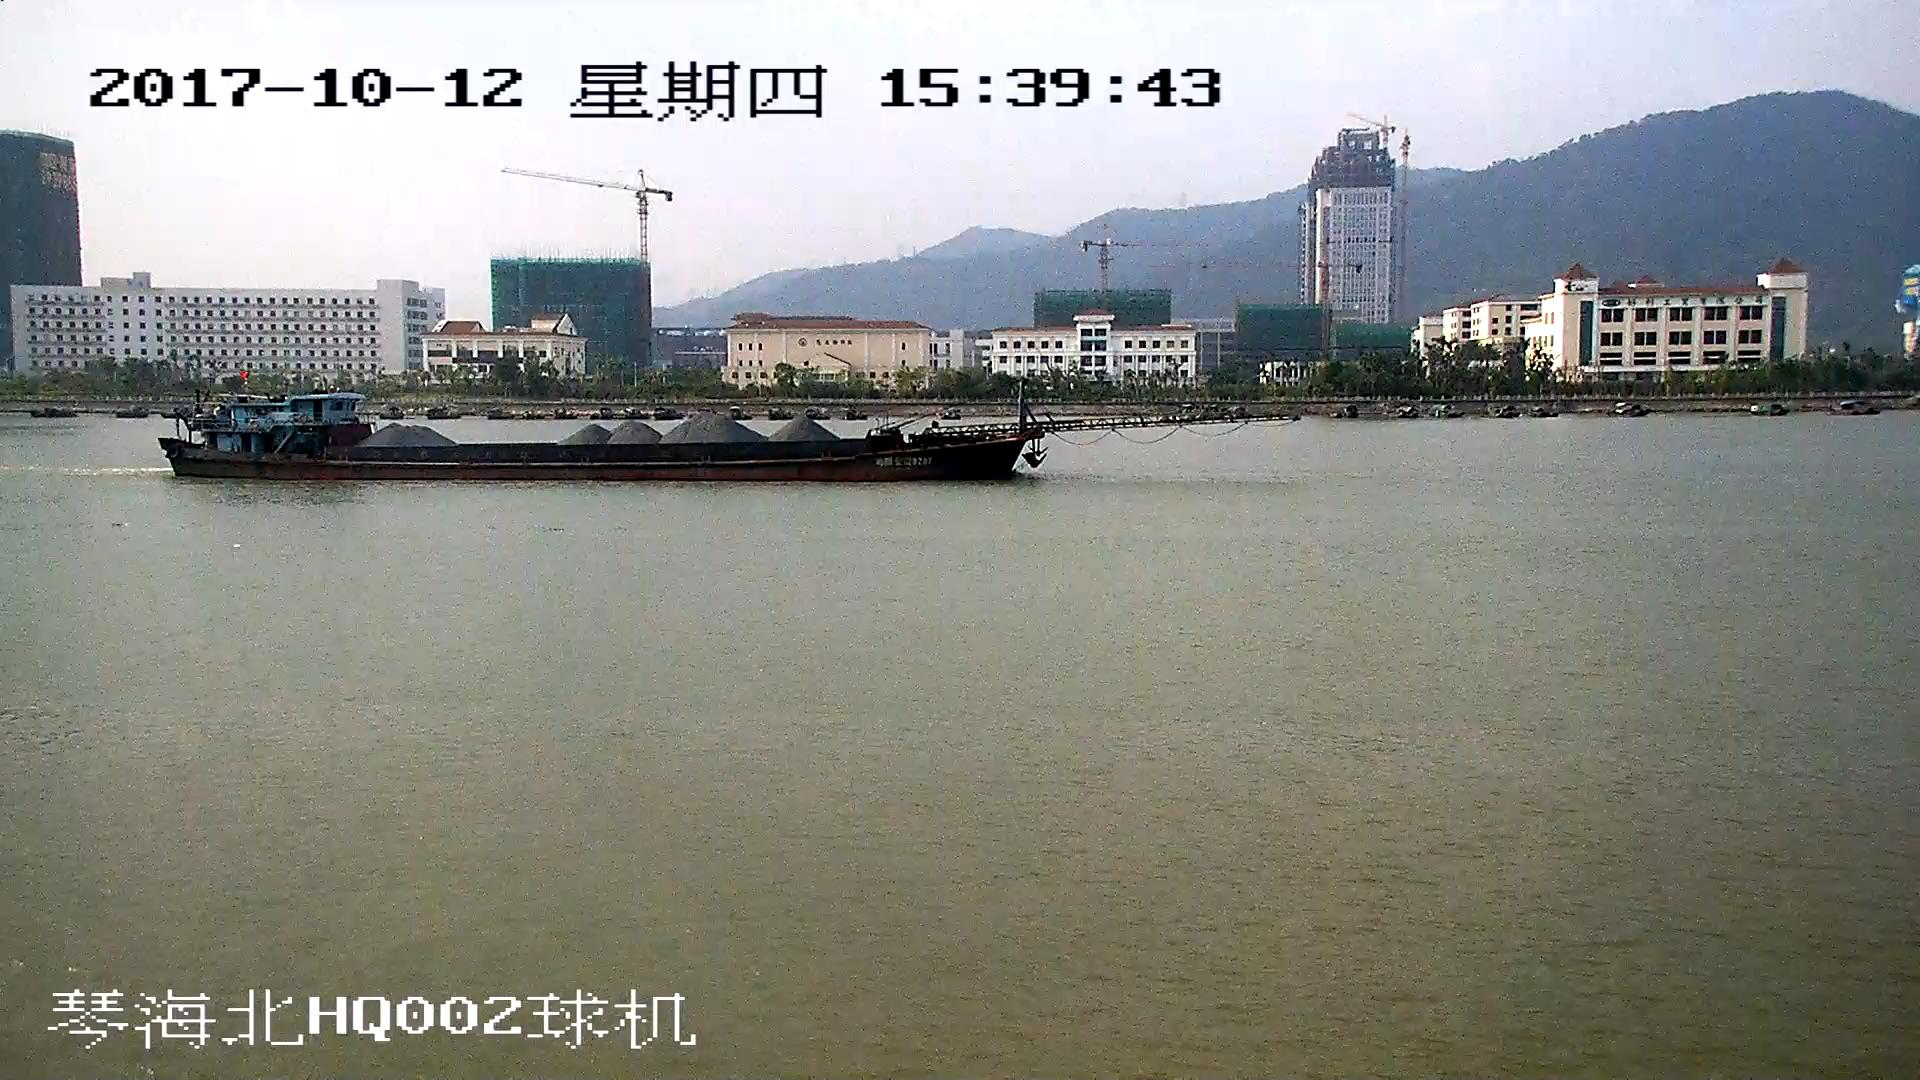ore carrier: (166, 374, 1253, 483)
